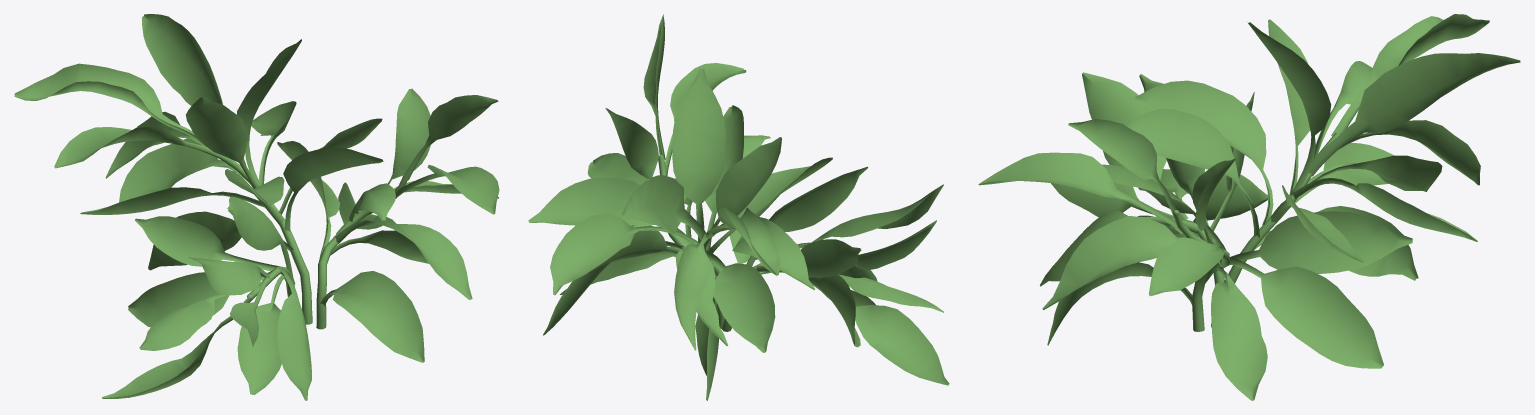
File: SM_Aglaonema_02.glb
The picture shows the model from 3 angles, left to right: view 1: azimuth 30°, elevation 25°; view 2: azimuth 150°, elevation 25°; view 3: azimuth 270°, elevation 25°; orthographic projection. The views are drawn at different scales.
Visible parts, largest first — view 1: SM_Aglaonema_02; view 2: SM_Aglaonema_02; view 3: SM_Aglaonema_02.
Part boxes in pixels (x1,y1,x2,y2): SM_Aglaonema_02: (14, 14, 499, 400); SM_Aglaonema_02: (528, 14, 949, 400); SM_Aglaonema_02: (978, 14, 1520, 400).
Size of what is drawn, in the model's own units: 26.24 by 18.9 by 28.37.
